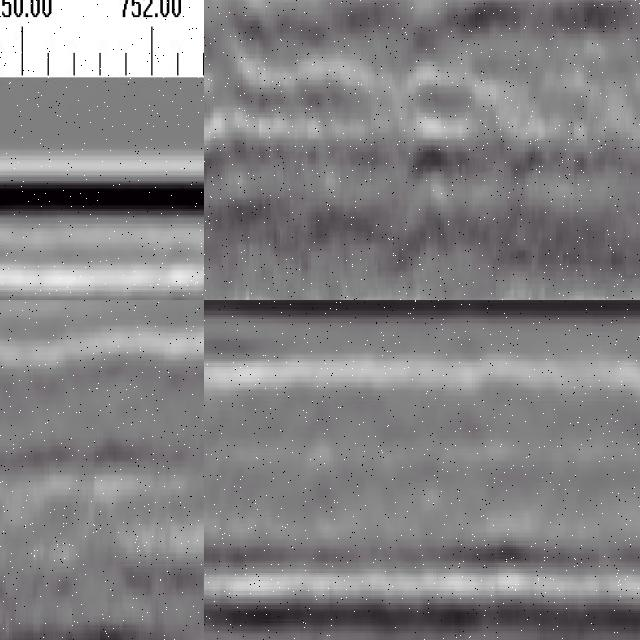loose: (1, 408, 59, 603)
